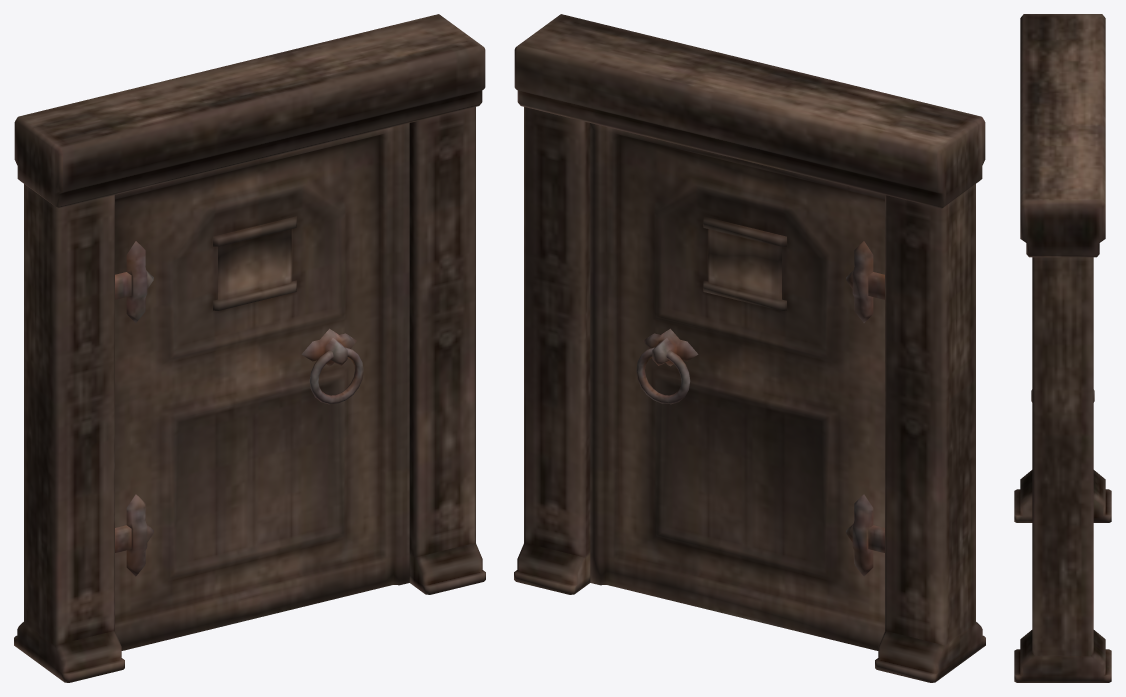
File: t1_door_carved_wooden.glb
3 views of the same model, side by side, from view 1: azimuth 30°, elevation 25°; view 2: azimuth 150°, elevation 25°; view 3: azimuth 270°, elevation 25° (orthographic). The views are drawn at different scales.
Parts seen in each view (by area): view 1: door_T1_small; view 2: door_T1_small; view 3: door_T1_small.
Part boxes in pixels (box(x1,y1,x2,y2)): door_T1_small: box(14, 14, 485, 682); door_T1_small: box(514, 14, 985, 682); door_T1_small: box(1014, 14, 1111, 682).
Size of the model in its own units: 2.2 by 2.62 by 0.4786.
2 materials, 2 textured.
